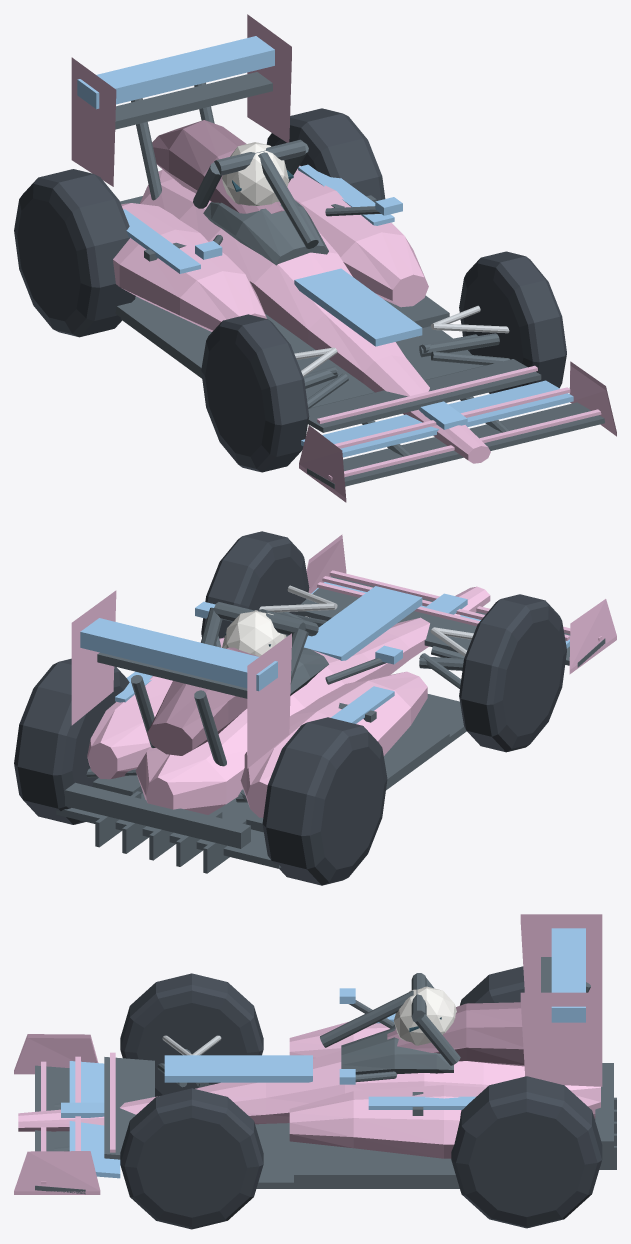
Rendered from alpine_mobile.glb.
3 renders of one model, top to bottom at view 1: azimuth 30°, elevation 25°; view 2: azimuth 150°, elevation 25°; view 3: azimuth 270°, elevation 25°, orthographic. The views are drawn at different scales.
Visible parts, largest first — view 1: BODY_paint, BODY_carbon, BODY_accent, RearLeftWheel_rubber, FrontLeftWheel_rubber, FrontRightWheel_rubber, RearRightWheel_rubber, BODY_paint_dark, BODY_helmet, BODY_metal; view 2: BODY_paint, BODY_carbon, RearLeftWheel_rubber, BODY_accent, FrontLeftWheel_rubber, RearRightWheel_rubber, FrontRightWheel_rubber, BODY_paint_dark, BODY_helmet, BODY_metal; view 3: BODY_paint, BODY_carbon, RearRightWheel_rubber, FrontRightWheel_rubber, BODY_accent, FrontLeftWheel_rubber, BODY_paint_dark, BODY_helmet, RearLeftWheel_rubber.
Part boxes in pixels (x1,y1,x2,y2): BODY_paint: (71, 14, 616, 502); BODY_carbon: (115, 72, 604, 488); BODY_accent: (77, 36, 573, 457); RearLeftWheel_rubber: (14, 169, 135, 337); FrontLeftWheel_rubber: (201, 314, 309, 472); FrontRightWheel_rubber: (459, 251, 566, 393); RearRightWheel_rubber: (266, 108, 385, 200); BODY_paint_dark: (152, 120, 284, 213); BODY_helmet: (222, 142, 289, 205); BODY_metal: (294, 305, 509, 376); BODY_paint: (71, 534, 616, 817); BODY_carbon: (56, 576, 605, 873); RearLeftWheel_rubber: (262, 717, 387, 885); BODY_accent: (80, 582, 569, 723); FrontLeftWheel_rubber: (459, 594, 566, 752); RearRightWheel_rubber: (14, 658, 129, 824); FrontRightWheel_rubber: (201, 531, 309, 638); BODY_paint_dark: (147, 647, 258, 755); BODY_helmet: (222, 610, 286, 656); BODY_metal: (259, 585, 473, 656); BODY_paint: (14, 914, 602, 1194); BODY_carbon: (35, 957, 616, 1194); RearRightWheel_rubber: (451, 1076, 602, 1228); FrontRightWheel_rubber: (120, 1088, 263, 1229); BODY_accent: (61, 928, 585, 1178); FrontLeftWheel_rubber: (120, 973, 263, 1096); BODY_paint_dark: (387, 1002, 524, 1066); BODY_helmet: (394, 986, 456, 1045); RearLeftWheel_rubber: (460, 966, 524, 1005).
Size of the model in its own units: 2.59 by 1.9 by 4.88.
